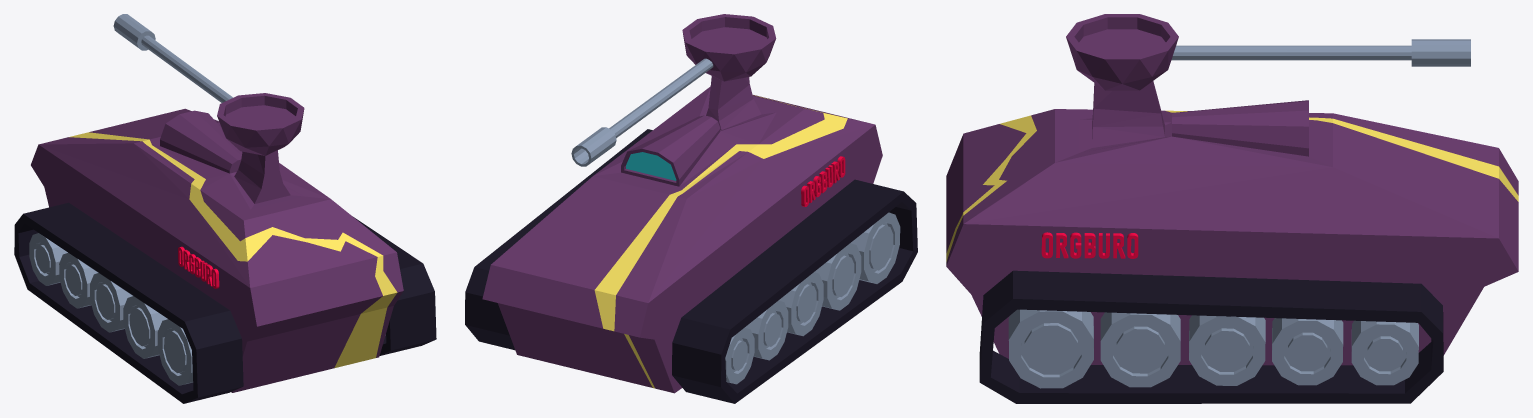
Rendered from tank_01_purple.obj.
The picture shows the model from 3 angles, left to right: view 1: azimuth 30°, elevation 25°; view 2: azimuth 150°, elevation 25°; view 3: azimuth 270°, elevation 25°; orthographic projection. The views are drawn at different scales.
Visible parts, largest first — view 1: tank_01_purple_Cube.007; view 2: tank_01_purple_Cube.007; view 3: tank_01_purple_Cube.007.
Boxes of the visible parts, x1,y1,x2,y2 form: tank_01_purple_Cube.007: [14, 14, 436, 403]; tank_01_purple_Cube.007: [465, 14, 917, 403]; tank_01_purple_Cube.007: [946, 14, 1518, 403].
Size of the model in its own units: 3.25 by 3.02 by 5.34.
Materials: 2 (2 with a texture image).
